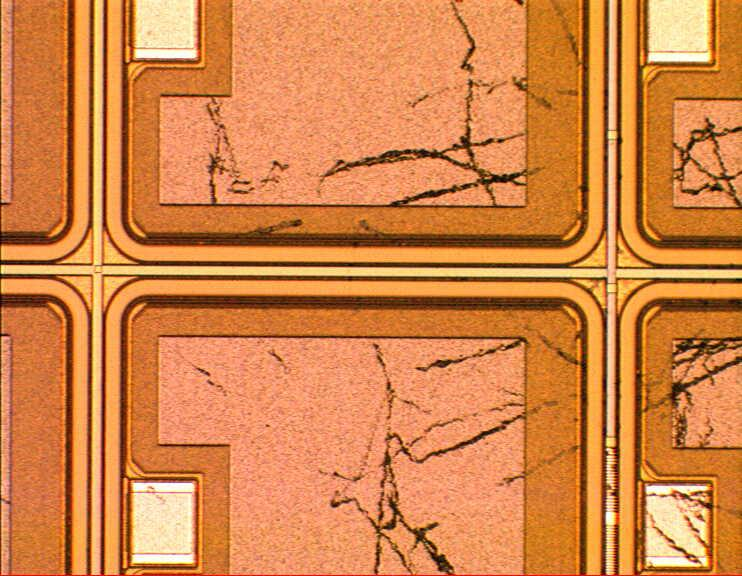SCRATCH: (167, 1, 742, 576)
